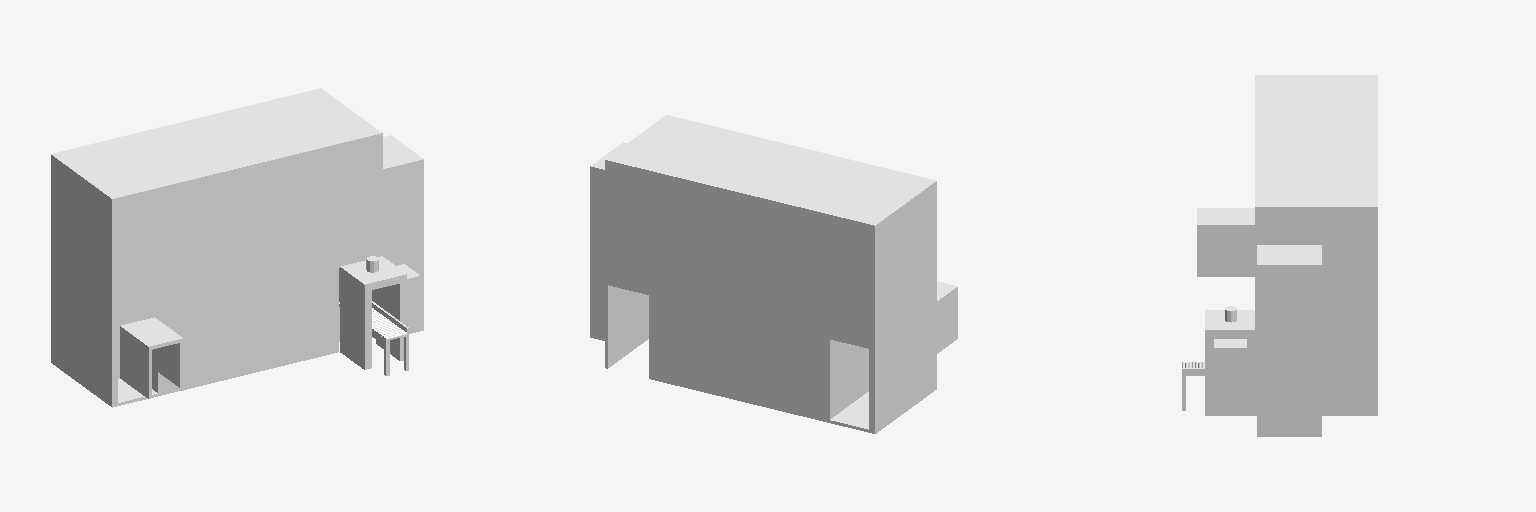
3 renders of one model, left to right at view 1: azimuth 30°, elevation 25°; view 2: azimuth 150°, elevation 25°; view 3: azimuth 270°, elevation 25°, orthographic.
Visible parts, largest first — view 1: wm2, wmqe, wm2_2, wm2_1, wm2car, wmqep; view 2: wm2, wmqe, wm2_1; view 3: wm2, wmqe, wm2_1, wm2_2, wmqep.
Part boxes in pixels (left/top/right/bottom): wm2: left=51, top=88, right=382, bottom=407; wmqe: left=383, top=135, right=423, bottom=333; wm2_2: left=340, top=256, right=406, bottom=369; wm2_1: left=116, top=313, right=183, bottom=398; wm2car: left=339, top=301, right=408, bottom=375; wmqep: left=397, top=264, right=420, bottom=309; wm2: left=605, top=115, right=936, bottom=433; wmqe: left=590, top=142, right=626, bottom=340; wm2_1: left=937, top=281, right=957, bottom=353; wm2: left=1255, top=75, right=1377, bottom=415; wmqe: left=1257, top=245, right=1321, bottom=436; wm2_1: left=1197, top=208, right=1254, bottom=276; wm2_2: left=1205, top=310, right=1254, bottom=415; wmqep: left=1214, top=339, right=1246, bottom=378.
Bounding box in the file's own units: 440 × 280 × 239.